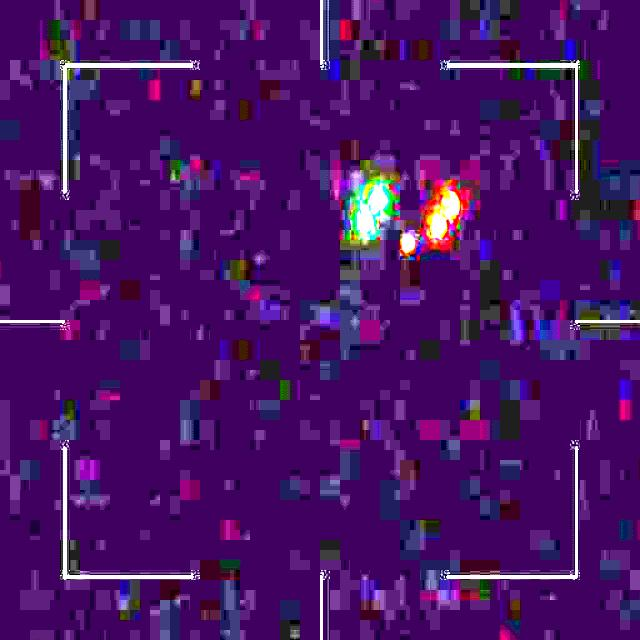bird: (355, 184, 459, 251)
